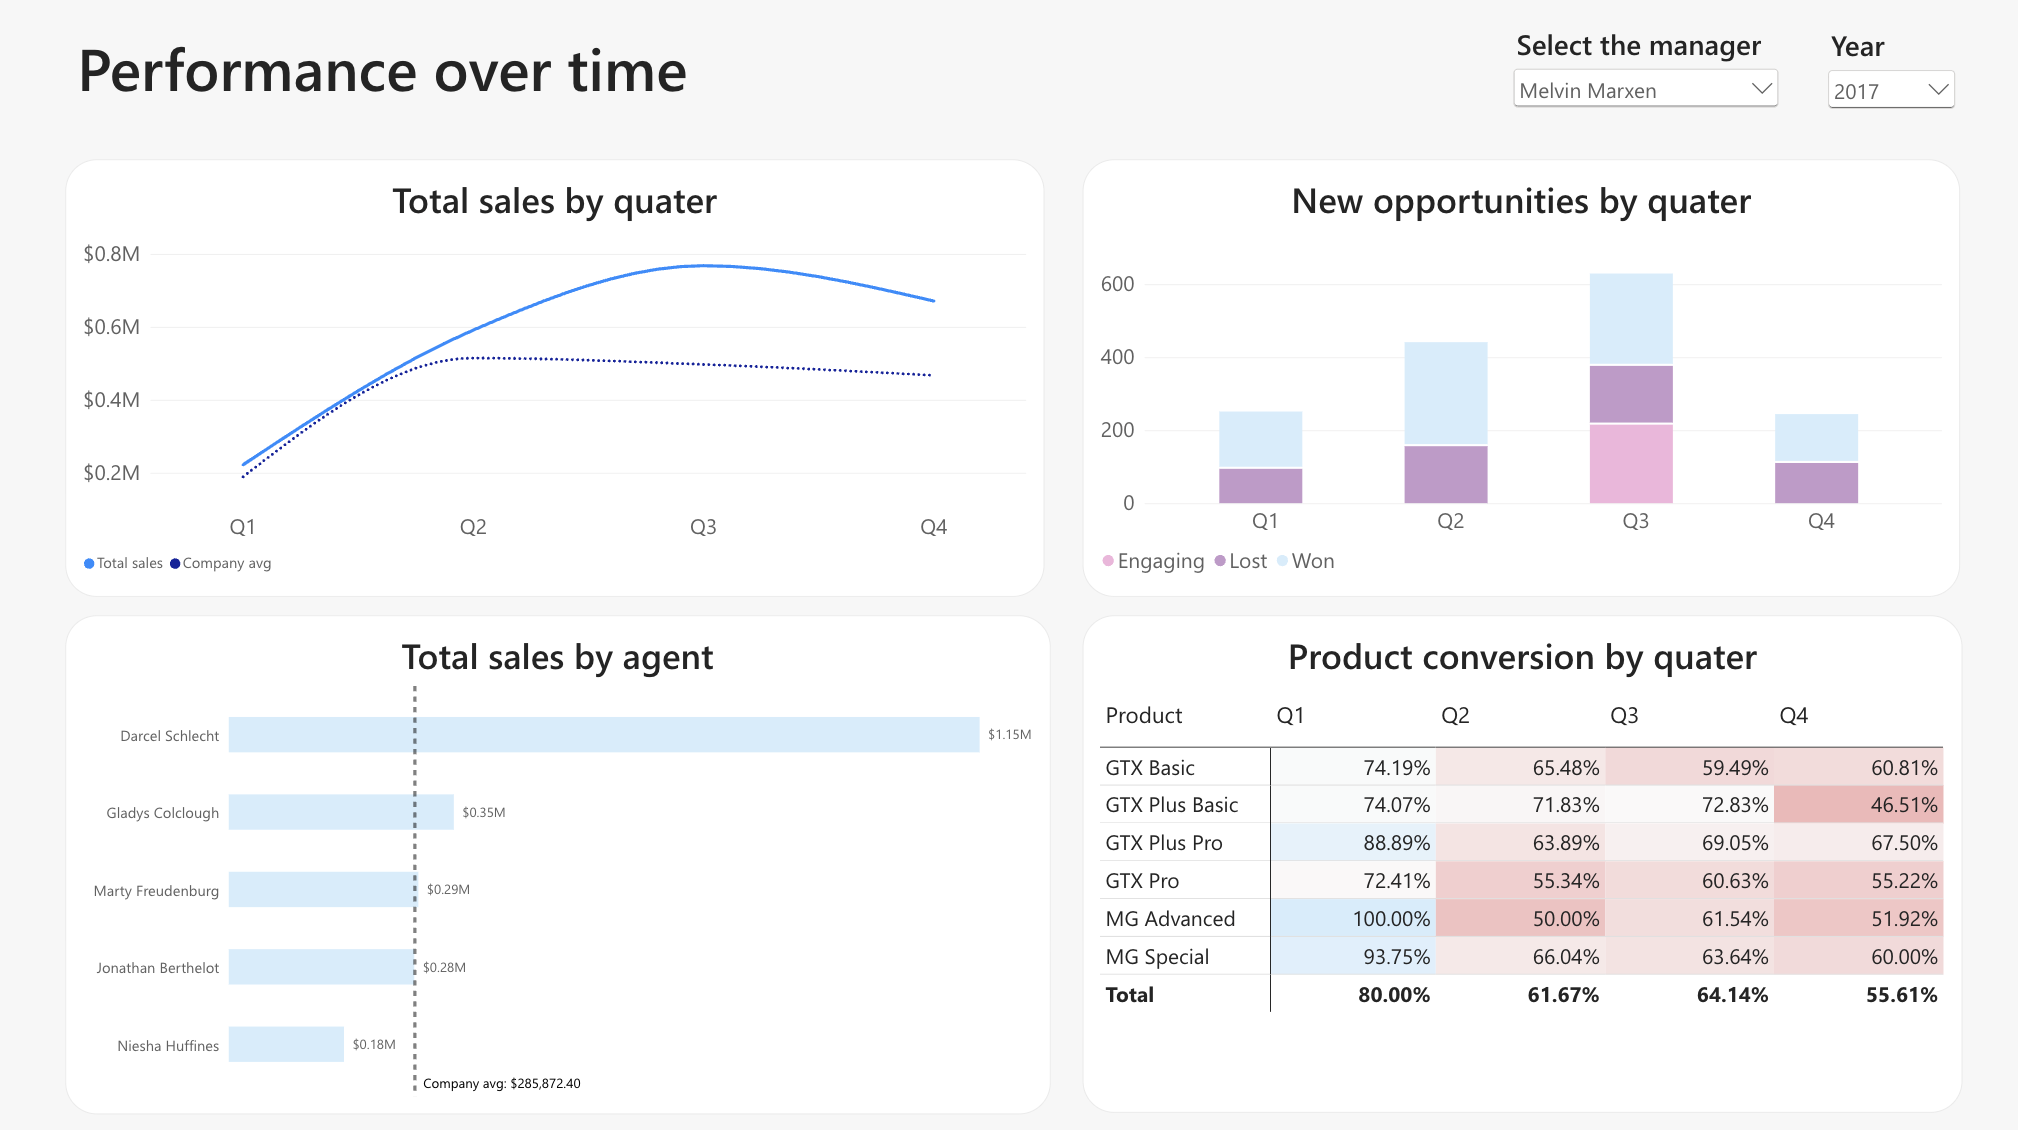

Layout of this report page (visuals, bound fields, positions):
{"tool":"powerbi","page":{"name":"Page 4","canvas":[1920,1080],"ordinal":3},"visuals":[{"type":"textbox","box":[73.2,27.5,597.1,98.4],"z":0},{"type":"lineChart","title":"Total sales by quater","fields":{"Category":["Calendar.Quarter"],"Y":["sales_pipeline 1.Won revenue","sales_pipeline 1.Won Revenue All Teams Average","select"]},"box":[62.2,153.6,931.5,416.2],"z":1000},{"type":"slicer","fields":{"Values":["sales_teams 1.manager"]},"box":[1435.2,25.3,262.6,101.8],"z":2000},{"type":"slicer","fields":{"Values":["Calendar.Year"]},"box":[1734.7,27.2,131.3,101.8],"z":3000},{"type":"clusteredBarChart","title":"Total sales by agent","fields":{"Category":["sales_pipeline 1.sales_agent"],"Y":["sales_pipeline 1.Won revenue"]},"box":[62.2,587.3,937.4,474.5],"z":4000},{"type":"columnChart","title":"New opportunities by quater","fields":{"Category":["Calendar.Quarter"],"Series":["sales_pipeline 1.deal_stage"],"Y":["sales_pipeline 1.Opportunities by Engagement Date"]},"box":[1029.5,153.3,835,416.4],"z":5000},{"type":"pivotTable","title":"Product conversion by quater","fields":{"Columns":["Calendar.Quarter"],"Rows":["sales_pipeline 1.product"],"Values":["sales_pipeline 1.Win rate"]},"box":[1029.5,587.9,837.3,473.6],"z":6000}]}

Visuals, with their boxes in screenshot pixels (x1, y1, x2, y2), scaled from the page's 1920x1080 canvas onto the 2018x1130 screenshot:
textbox: 77/29/705/132
"Total sales by quater" lineChart: 65/161/1044/596
slicer - sales_teams 1.manager: 1508/26/1784/133
slicer - Calendar.Year: 1823/28/1961/135
"Total sales by agent" clusteredBarChart: 65/614/1051/1111
"New opportunities by quater" columnChart: 1082/160/1960/596
"Product conversion by quater" pivotTable: 1082/615/1962/1111
